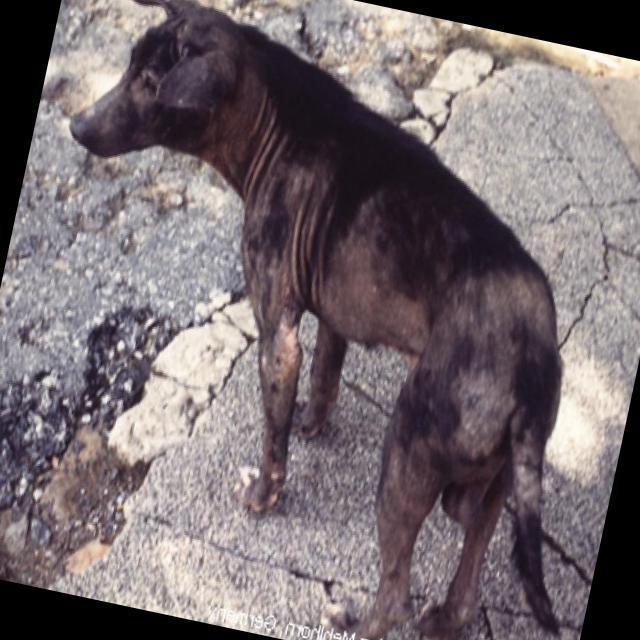mange: (243, 137, 561, 507)
